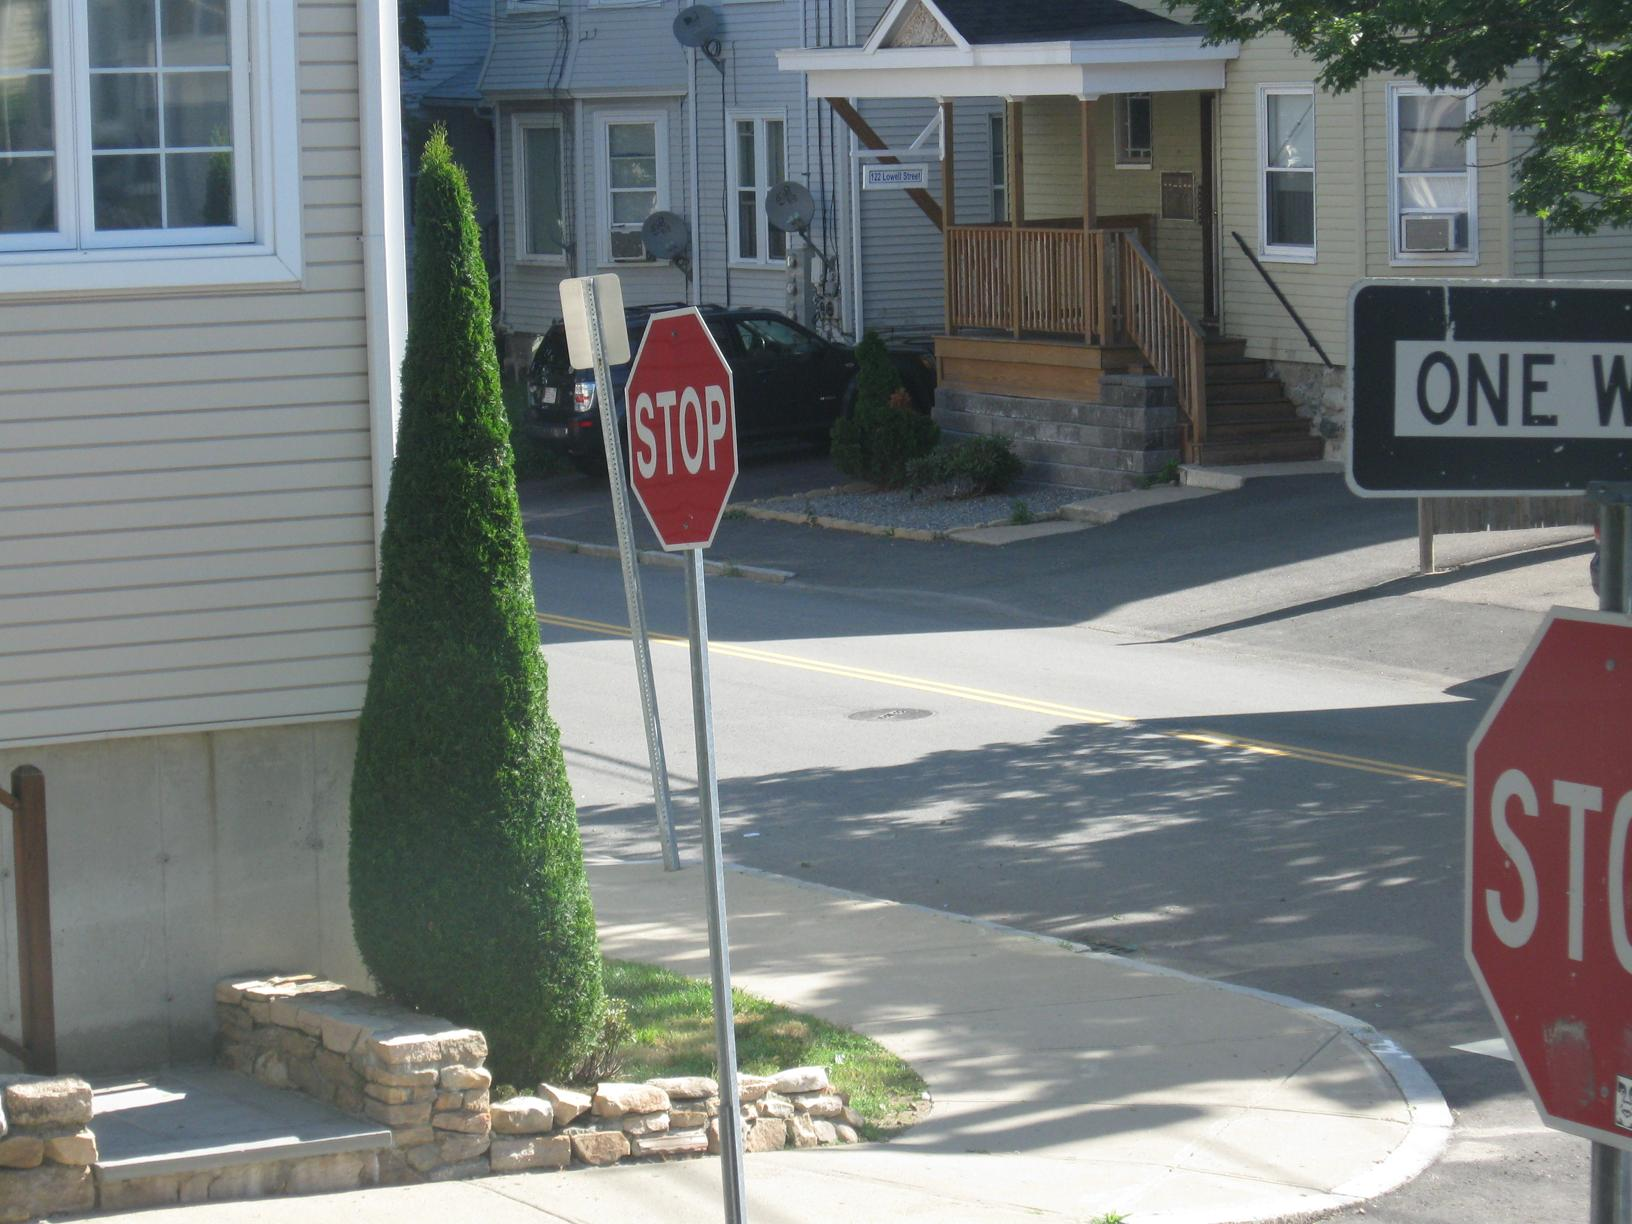stop: (1451, 582, 1632, 1155), (604, 319, 743, 545)
